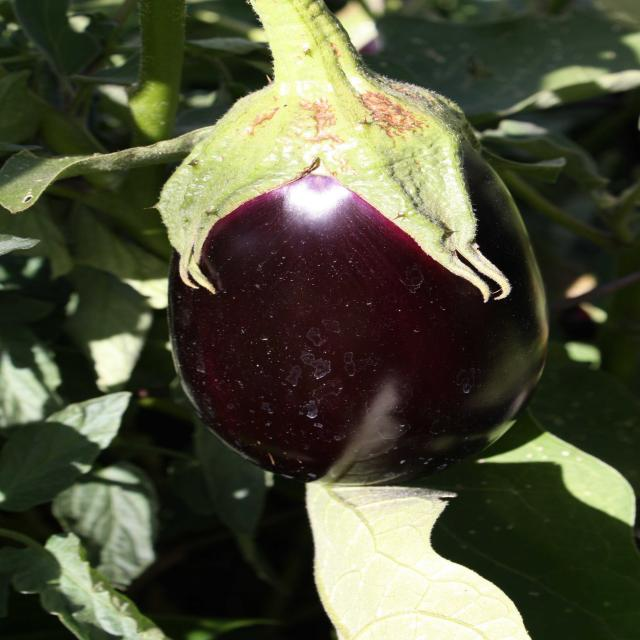Eggplant-r1Ob: (158, 0, 548, 484)
